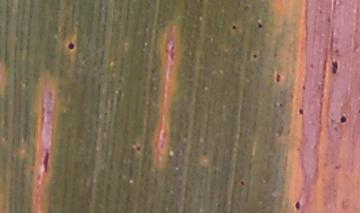tarspot: (42, 149, 49, 177), (330, 59, 340, 76), (273, 70, 282, 85), (294, 199, 302, 213), (66, 40, 76, 51), (338, 114, 348, 125), (297, 106, 305, 117), (135, 145, 143, 153), (239, 179, 246, 188), (251, 52, 258, 59), (231, 24, 237, 31), (257, 22, 263, 29), (301, 84, 306, 92)
